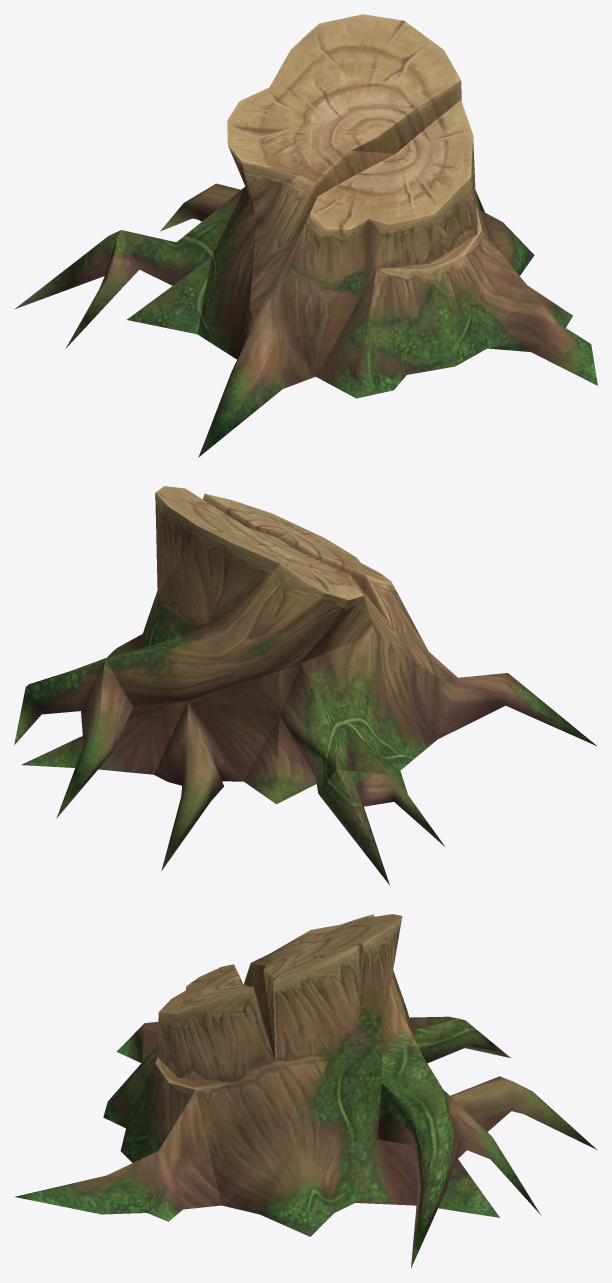
The model's file is shuzhuang04.FBX.
3 views of the same model, one above another, from view 1: azimuth 30°, elevation 25°; view 2: azimuth 150°, elevation 25°; view 3: azimuth 270°, elevation 25° (orthographic).
Parts seen in each view (by area): view 1: UE050_2; view 2: UE050_2; view 3: UE050_2.
Part boxes in pixels (x1,y1,x2,y2): UE050_2: [14, 14, 597, 457]; UE050_2: [14, 486, 596, 885]; UE050_2: [14, 914, 596, 1267].
Bounding box in the file's own units: 115 × 66.74 × 131.
